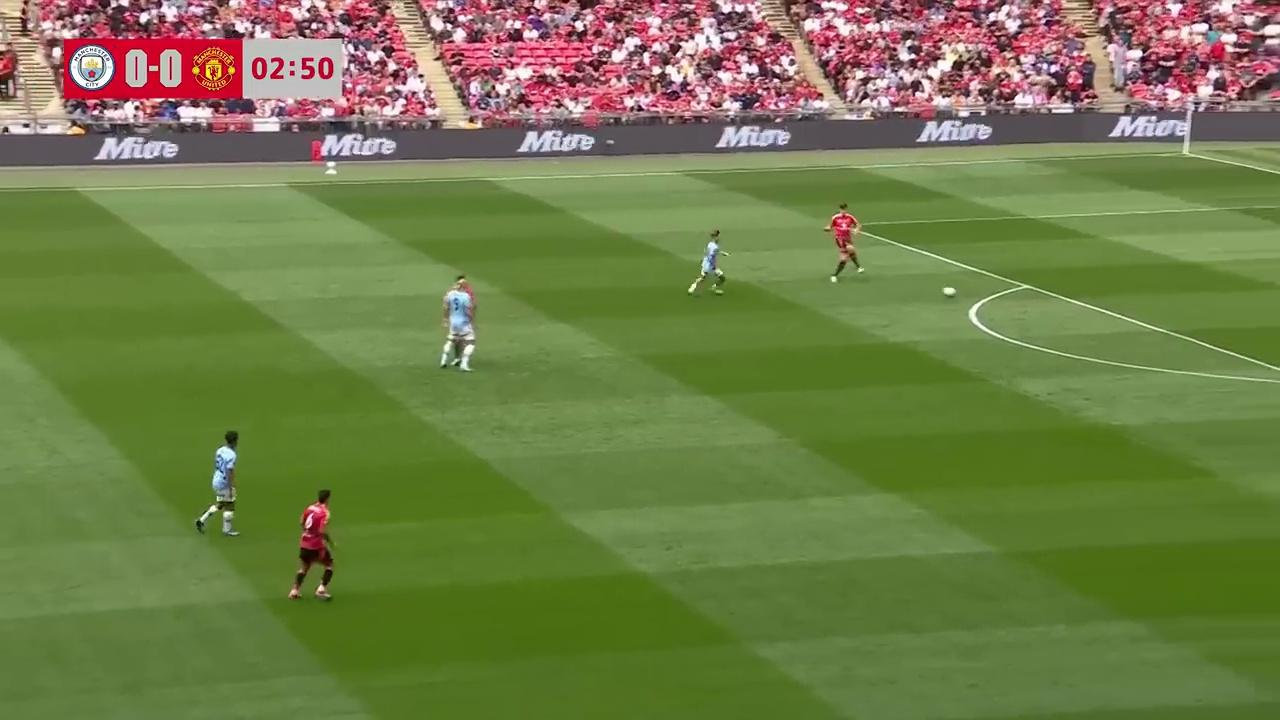ball: (940, 282, 958, 298)
player: (287, 489, 335, 602), (195, 431, 239, 537), (440, 274, 476, 371), (825, 203, 863, 282), (687, 230, 728, 296)
